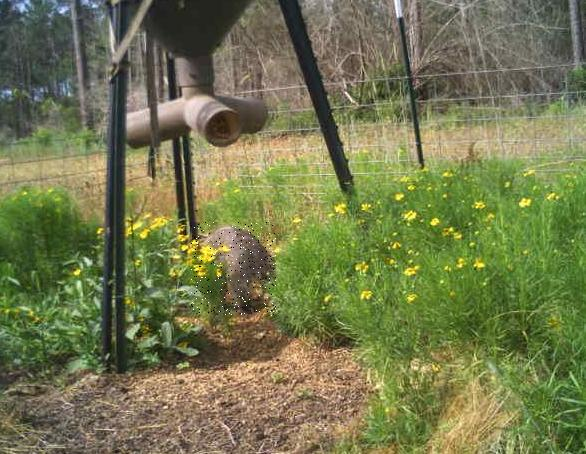Raccoon: (190, 223, 275, 317)
